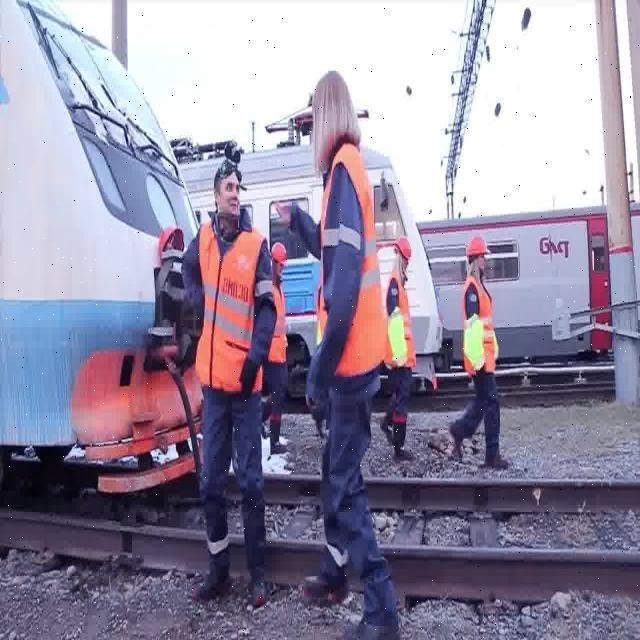Person: (297, 69, 387, 640), (182, 163, 274, 605), (445, 239, 505, 473)
Vest: (313, 143, 386, 377), (187, 225, 267, 393)
